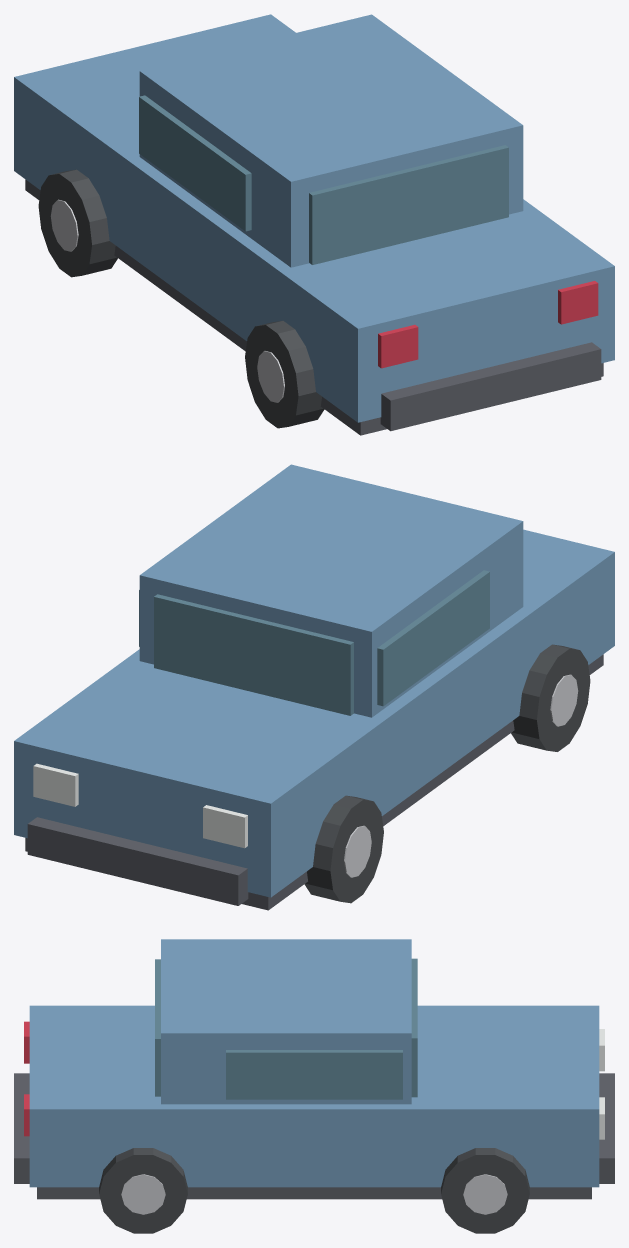
The model's file is palio.glb.
The picture shows the model from 3 angles, top to bottom: view 1: azimuth 30°, elevation 25°; view 2: azimuth 150°, elevation 25°; view 3: azimuth 270°, elevation 25°; orthographic projection. The views are drawn at different scales.
Visible parts, largest first — view 1: BODY_main, BODY_cabin, WINDOW_rear, BODY_bumper_rear, WINDOW_side_-1, WHEEL_-1_1.155, WHEEL_-1_-1.155, BODY_lower, LIGHT_rear_-1, LIGHT_rear_1, WHEEL_-1_1.155_hub, WHEEL_-1_-1.155_hub; view 2: BODY_main, BODY_cabin, WINDOW_front, BODY_bumper_front, WINDOW_side_-1, WHEEL_-1_-1.155, WHEEL_-1_1.155, BODY_lower, LIGHT_front_1, LIGHT_front_-1, WHEEL_-1_-1.155_hub, WHEEL_-1_1.155_hub; view 3: BODY_main, BODY_cabin, WINDOW_side_1, BODY_lower, WHEEL_1_-1.155, WHEEL_1_1.155, BODY_bumper_front, BODY_bumper_rear, WHEEL_1_-1.155_hub, WHEEL_1_1.155_hub, WINDOW_front, WINDOW_rear.
Boxes of the visible parts, x1,y1,x2,y2 form: BODY_main: (14,14,614,422); BODY_cabin: (139,14,523,267); WINDOW_rear: (309,145,508,264); BODY_bumper_rear: (380,342,601,431); WINDOW_side_-1: (139,95,251,231); WHEEL_-1_1.155: (245,320,324,428); WHEEL_-1_-1.155: (38,169,117,277); BODY_lower: (25,179,603,435); LIGHT_rear_-1: (378,324,418,368); LIGHT_rear_1: (558,281,598,324); WHEEL_-1_1.155_hub: (257,351,284,402); WHEEL_-1_-1.155_hub: (50,199,78,251); BODY_main: (14,529,614,897); BODY_cabin: (139,464,523,717); WINDOW_front: (154,594,353,715); BODY_bumper_front: (27,817,248,905); WINDOW_side_-1: (377,570,489,706); WHEEL_-1_-1.155: (304,795,383,903); WHEEL_-1_1.155: (511,644,590,751); BODY_lower: (25,654,603,910); LIGHT_front_1: (33,763,78,806); LIGHT_front_-1: (203,805,247,848); WHEEL_-1_-1.155_hub: (344,825,371,877); WHEEL_-1_1.155_hub: (550,674,578,726); BODY_main: (29,1005,599,1187); BODY_cabin: (161,939,411,1104); WINDOW_side_1: (226,1050,402,1099); BODY_lower: (37,1187,591,1199); WHEEL_1_-1.155: (441,1148,529,1233); WHEEL_1_1.155: (99,1148,187,1233); BODY_bumper_front: (599,1073,614,1183); BODY_bumper_rear: (14,1073,29,1183); WHEEL_1_-1.155_hub: (463,1174,507,1214); WHEEL_1_1.155_hub: (121,1174,165,1214); WINDOW_front: (411,958,417,1097); WINDOW_rear: (155,959,160,1096).
Bounding box in the file's own units: 1.9 × 1.4 × 4.06.
